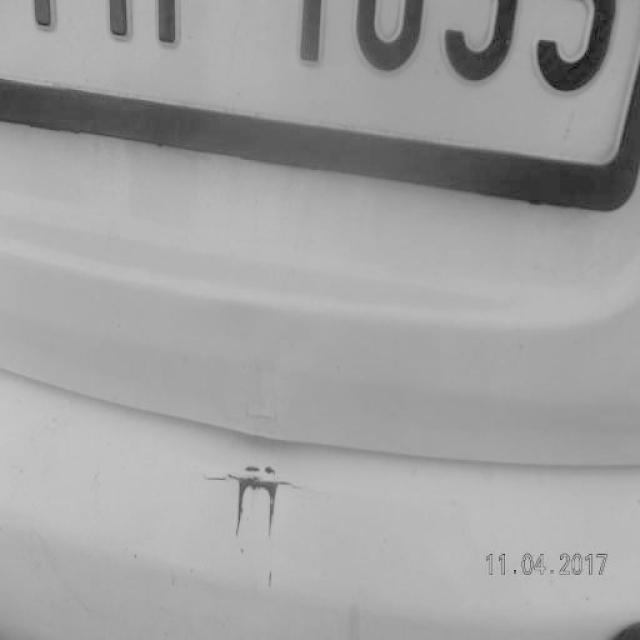car damage: (204, 462, 301, 541)
